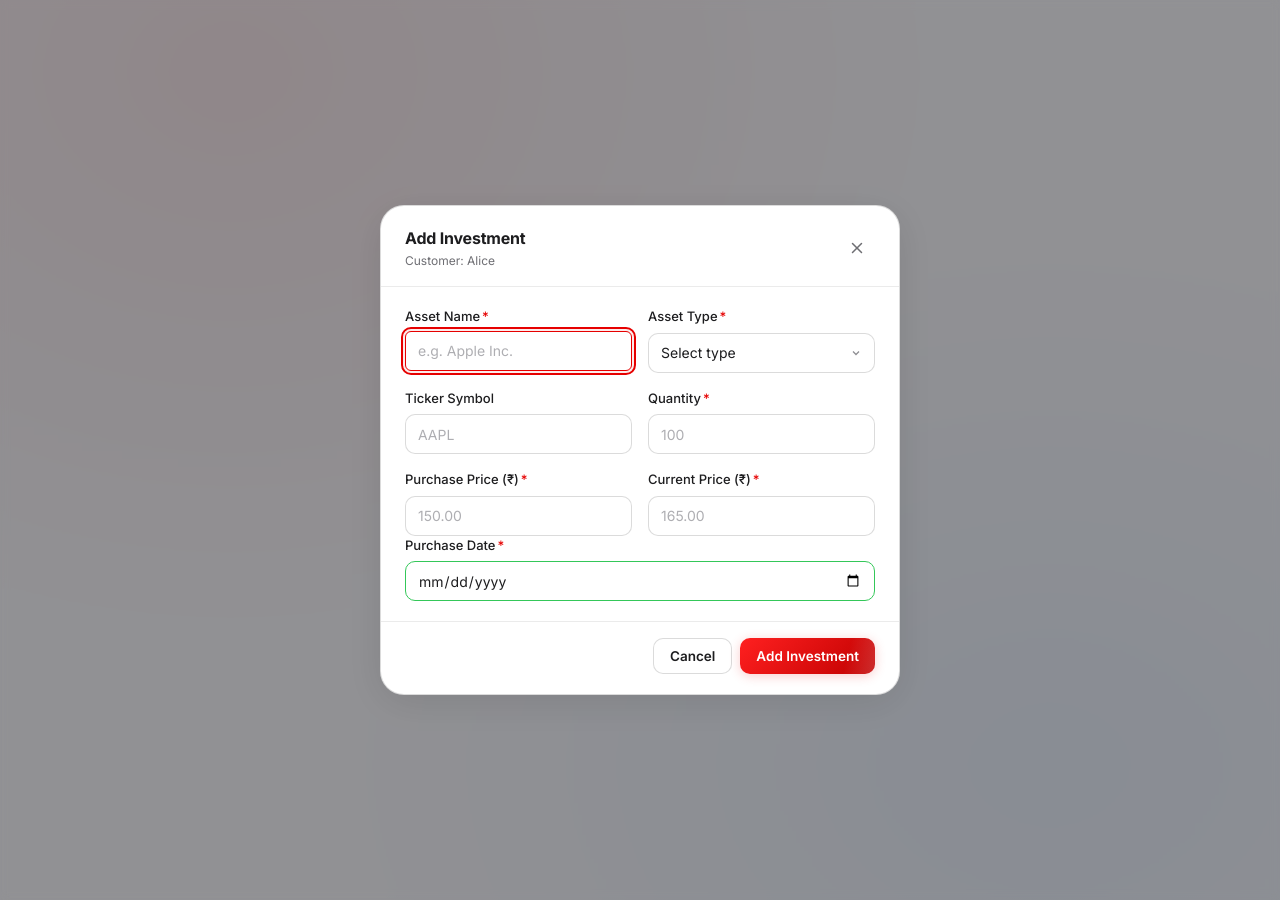
InvestmentForm - validation › shows asset name error on empty submit
Click the button "Add Investment" at x=808, y=656, box [740, 638, 875, 674]
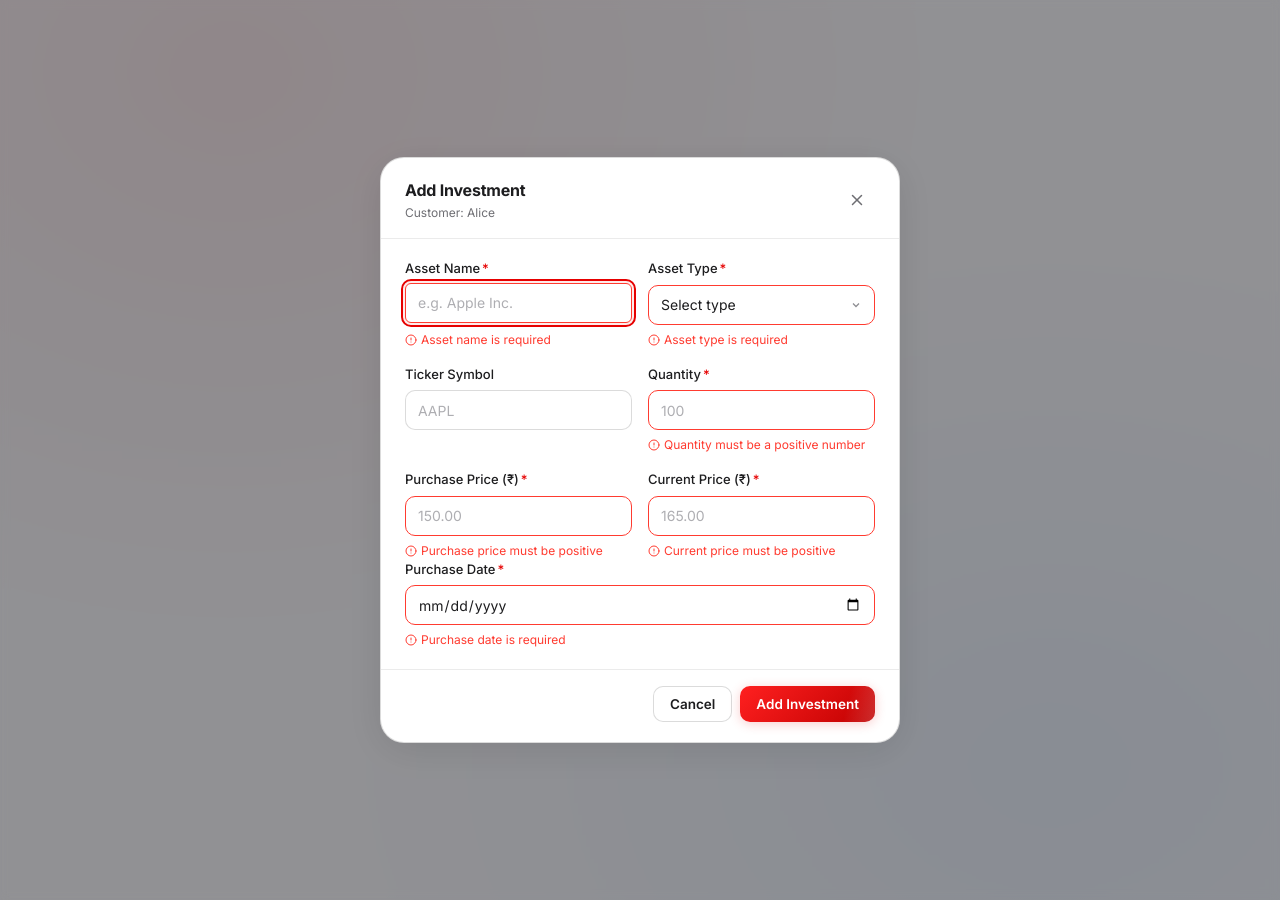
Check: the text "Asset name is required" is shown, box [405, 332, 551, 346]
